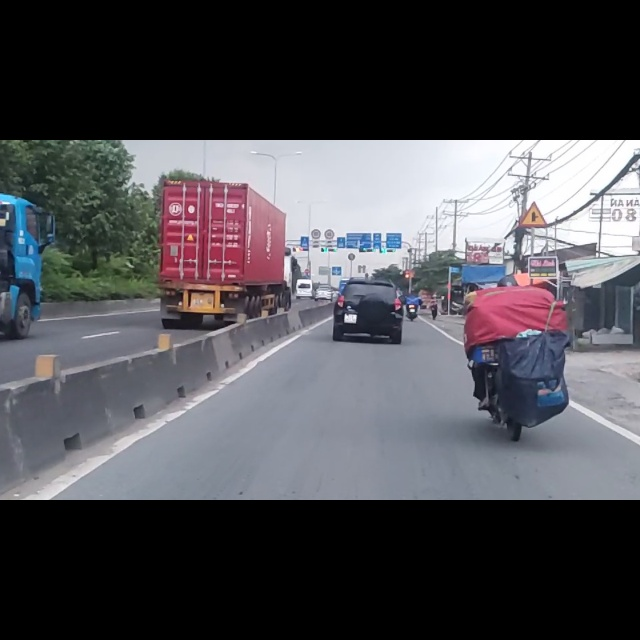bien_chi_dan: (521, 109, 547, 153), (325, 159, 335, 175)
